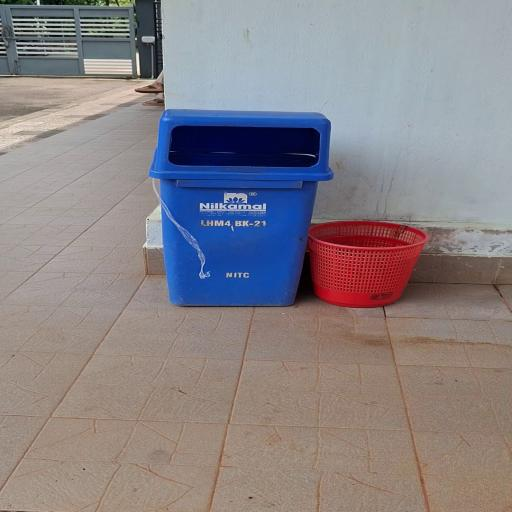Nilkamal-dustbin-detection: (149, 110, 332, 306)
